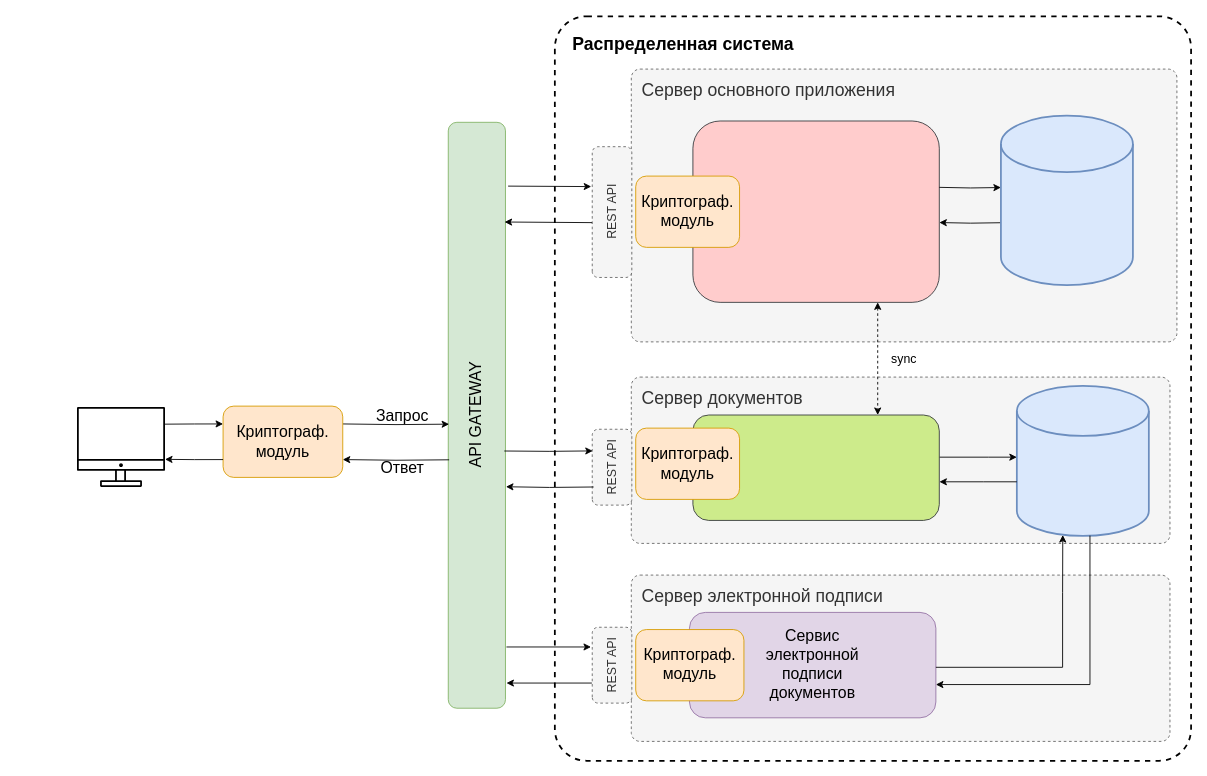
Image size: 1207x776. Some labels were removed from this diagram. Each missing label, with the centre of its shape:
"База данных PostgreSQL" goes at (1066,200).
"Клиентское приложение" goes at (121,446).
"Сервис основного приложения" goes at (815,211).
"Сервис файлового хранилища" goes at (815,467).
"Файловое хранилище" goes at (1082,460).
